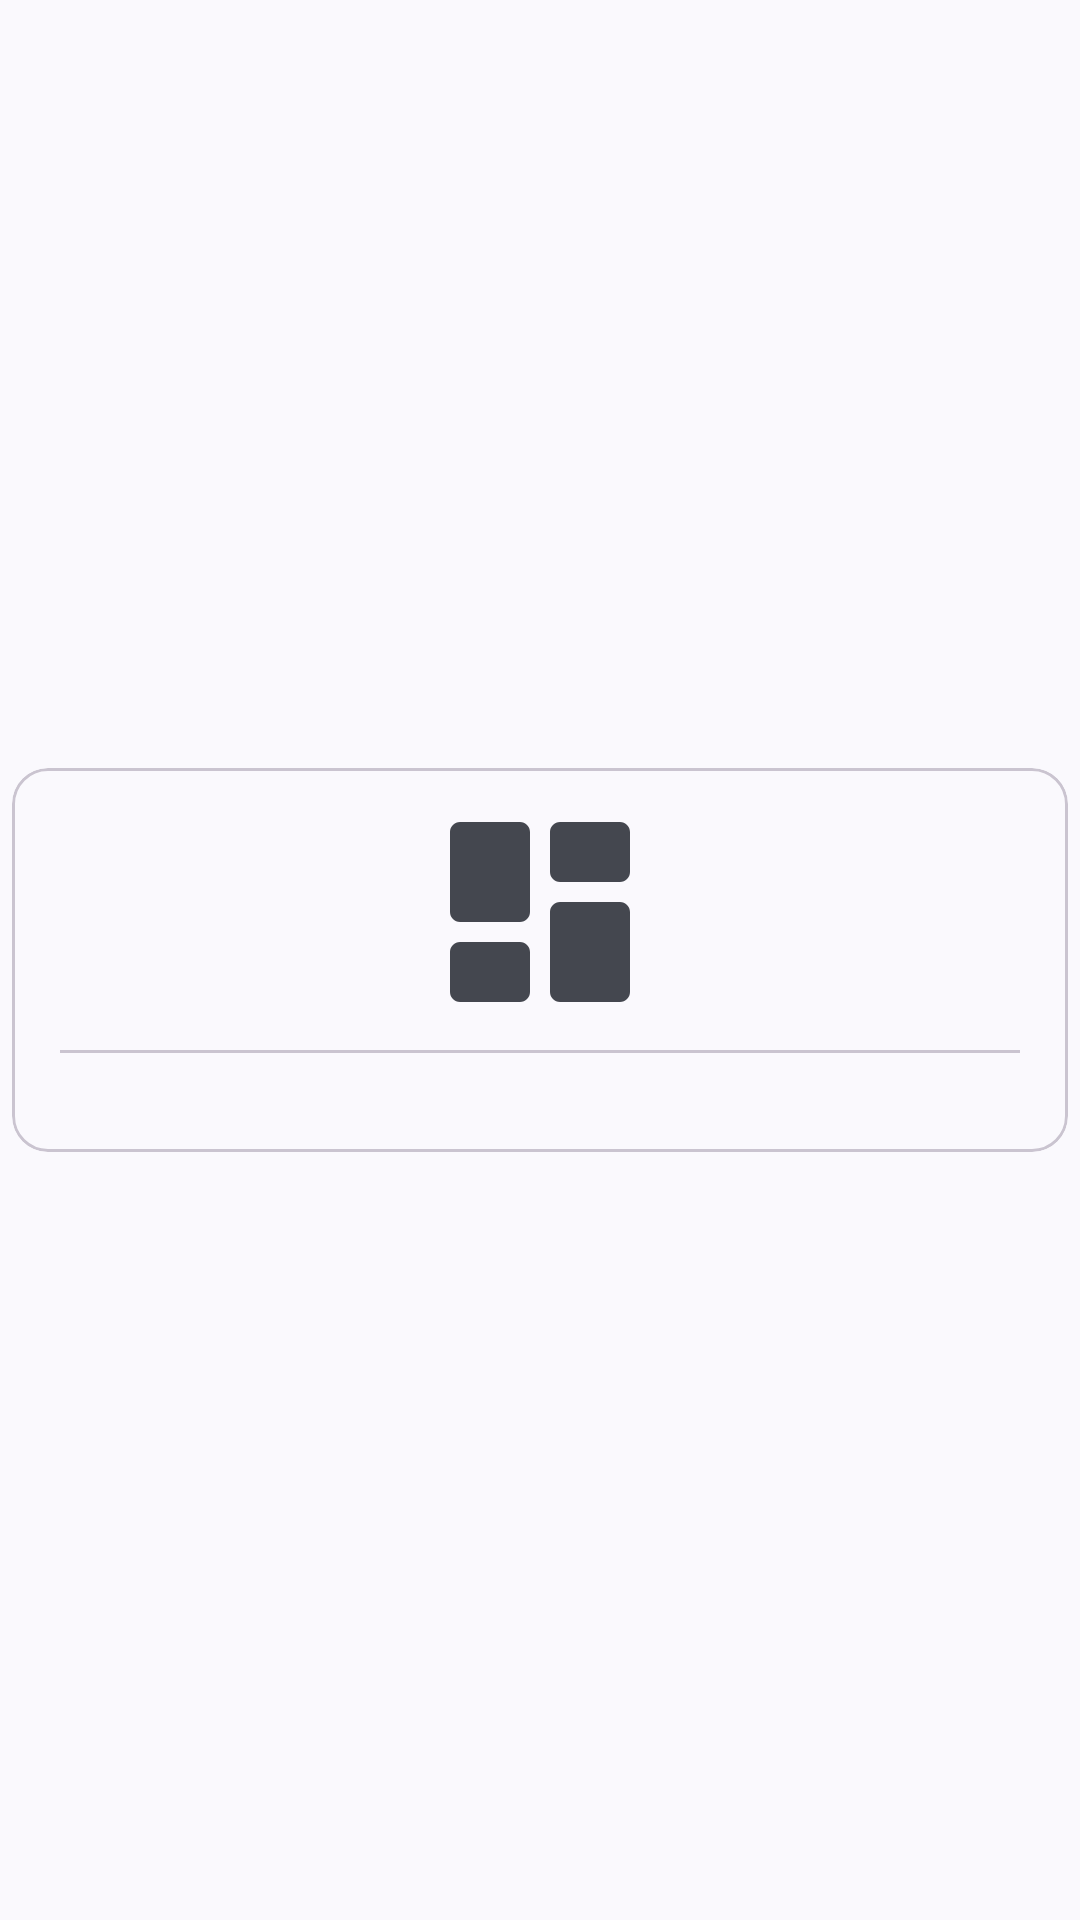

Where icons sit on this 1080x1920 app screen, as (x1, y1, x2, y2):
dashboard: (450, 822, 630, 1002)
